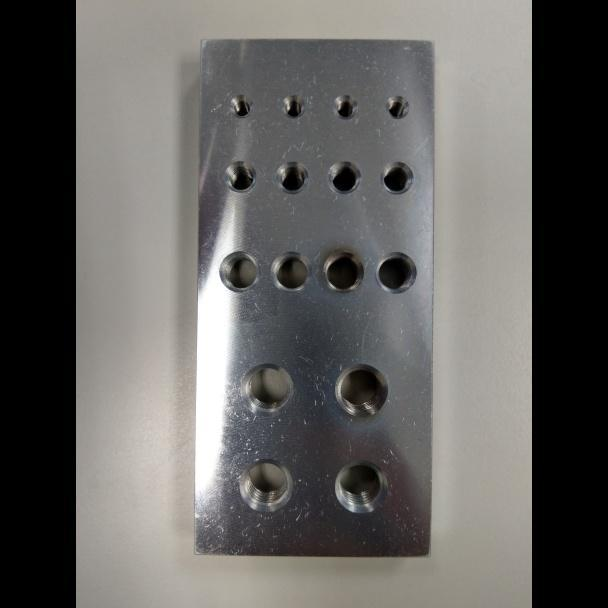hole: (334, 459, 389, 514), (238, 458, 294, 512), (334, 362, 388, 417), (239, 362, 294, 415), (373, 251, 417, 294), (322, 250, 365, 293), (269, 250, 313, 292), (218, 250, 261, 292), (326, 159, 361, 194), (379, 160, 414, 195), (275, 160, 309, 195), (224, 160, 257, 192), (228, 94, 254, 119), (332, 94, 358, 119), (385, 94, 410, 119), (281, 94, 306, 118)
